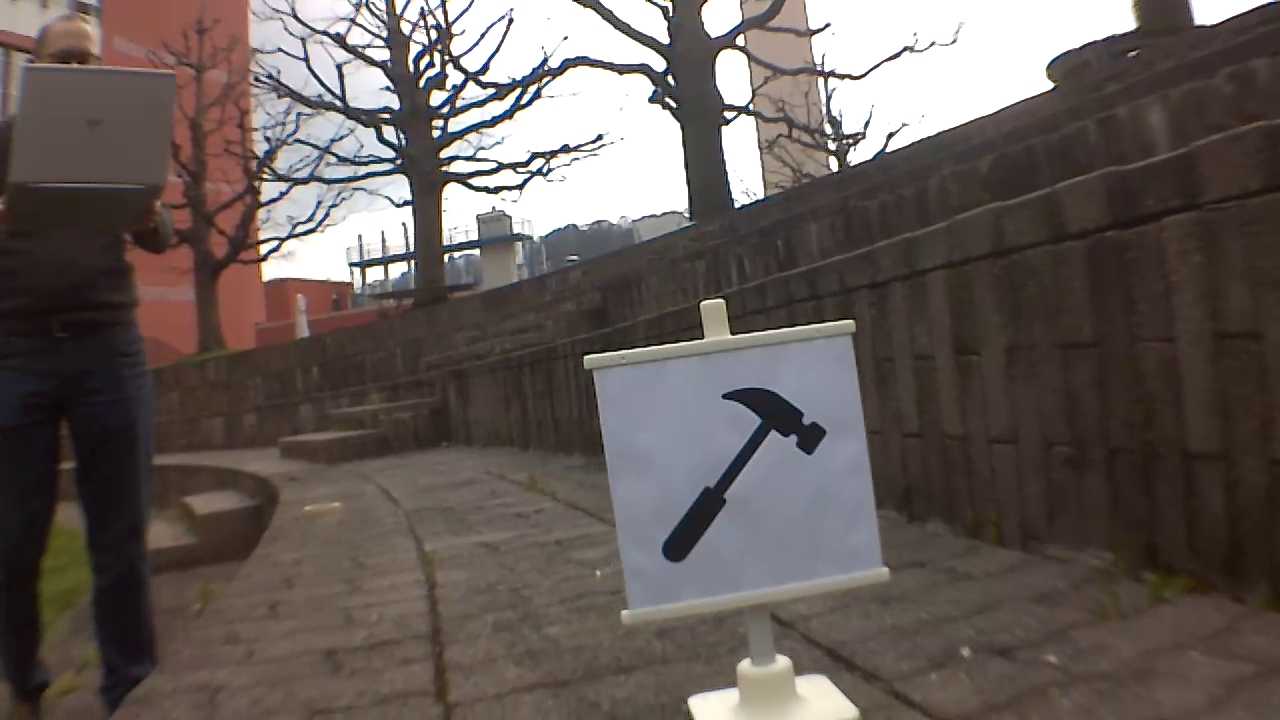hammer: (657, 374, 835, 561)
